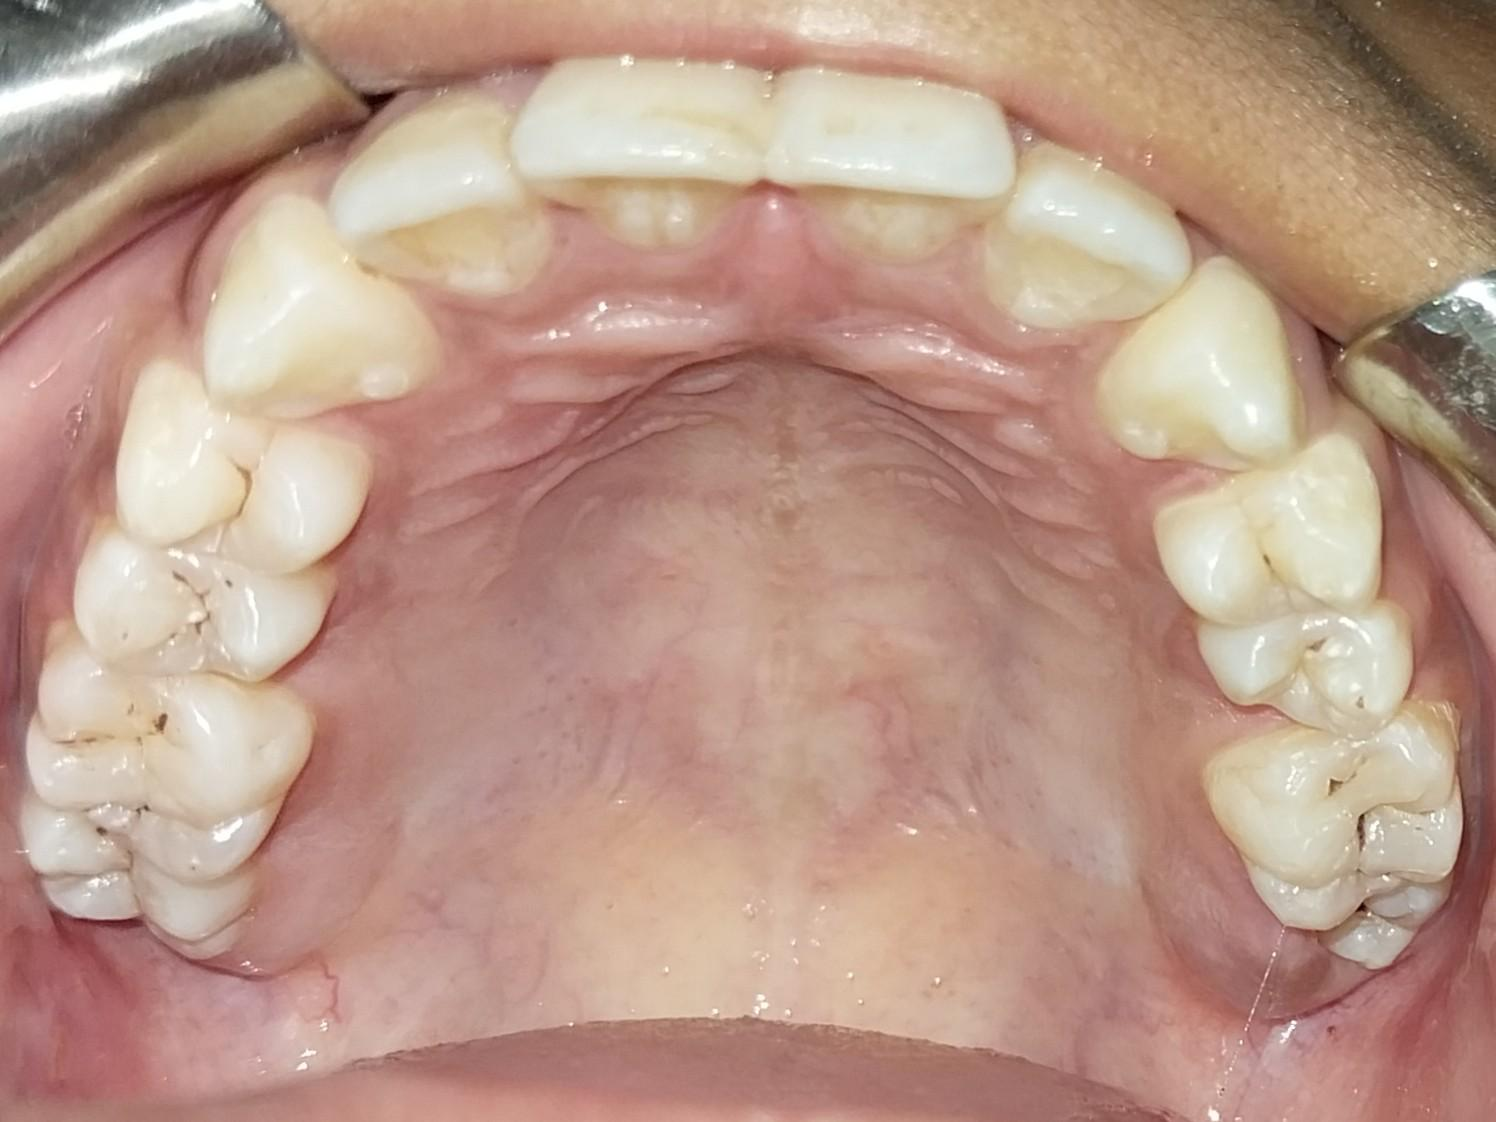D: (19, 647, 305, 870), (1203, 716, 1465, 928), (109, 384, 371, 576), (59, 530, 336, 686), (26, 803, 267, 968), (1157, 464, 1386, 632), (1198, 605, 1411, 743)
